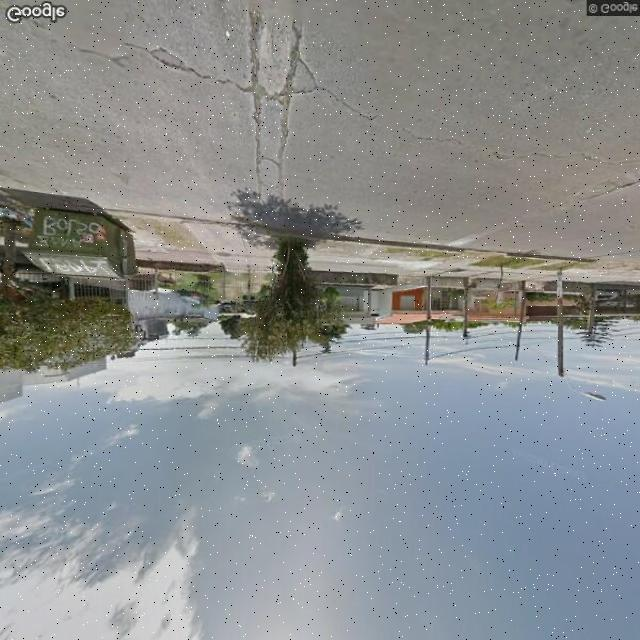garbage container: (15, 190, 153, 289)
